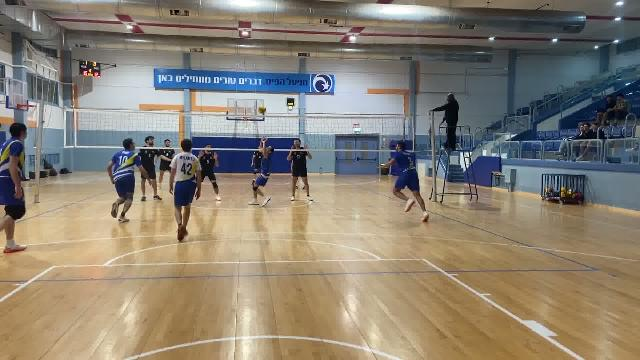ball: (256, 104, 269, 114)
